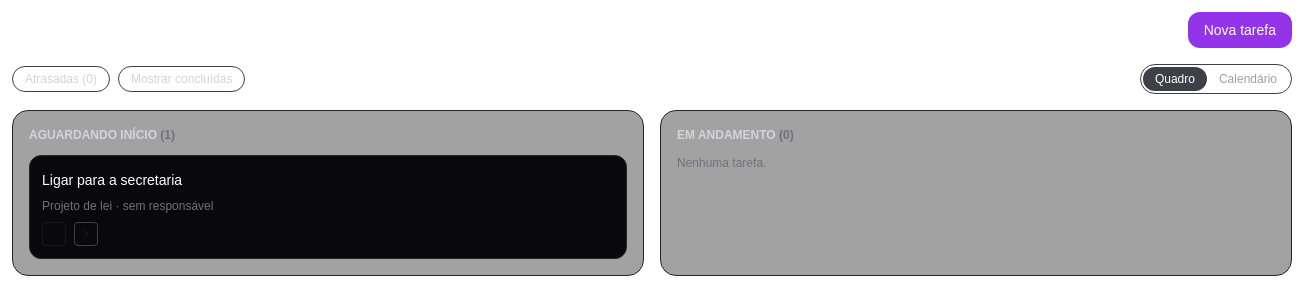
Test: QuadroTarefas › mostra as colunas com as tarefas em cada uma
Expected: the element named "Coluna Pendente" shows "Ligar para a secretaria", 42,170 -> 182,190
Click the button "Mostrar concluídas": click(182, 79) 118,66 -> 245,92
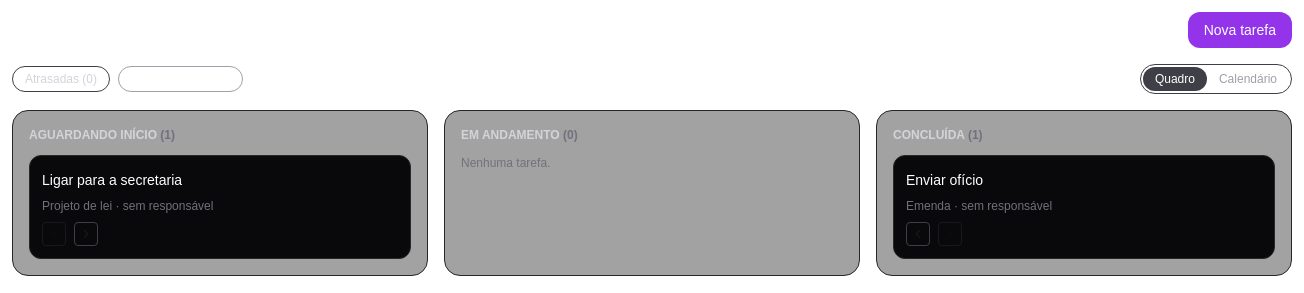
Result: the element named "Coluna Concluída" shows "Enviar ofício" at 906,170 -> 983,190
